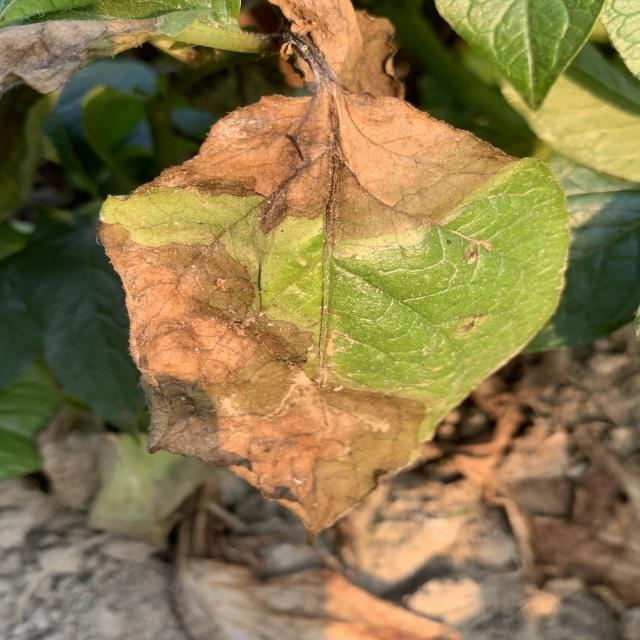lateblight: (98, 188, 425, 534), (138, 0, 515, 238), (0, 19, 163, 94)
